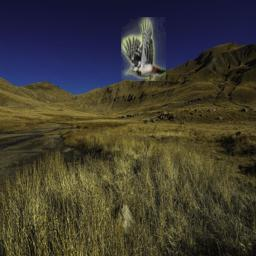Woodpecker: (121, 17, 166, 81)
